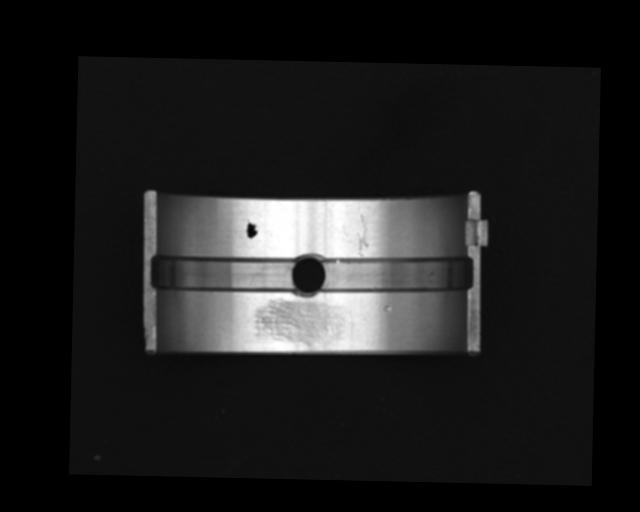blot: (245, 217, 259, 239)
bruise: (382, 303, 393, 313)
gap: (318, 251, 471, 297), (149, 253, 297, 293)
hole: (291, 252, 327, 297)
nick: (355, 211, 370, 257)
scratch: (252, 299, 347, 351)
